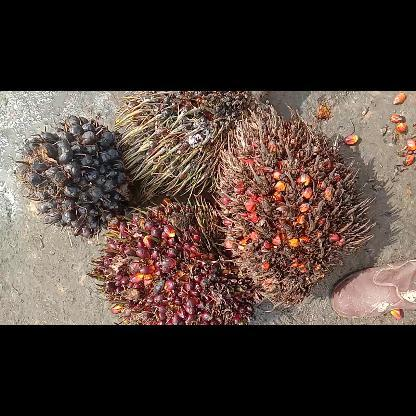TBS abnormal: (117, 94, 268, 192)
TBS masak: (89, 198, 255, 324)
TBS mentah: (14, 116, 132, 238)
Terlalu masak: (216, 104, 376, 304)
